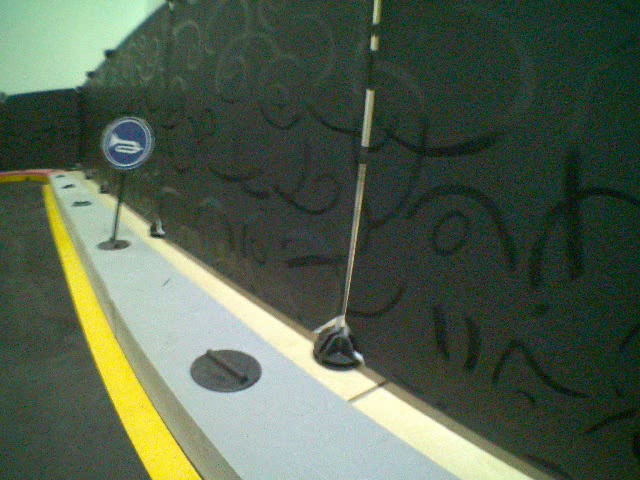horn: (101, 114, 155, 169)
